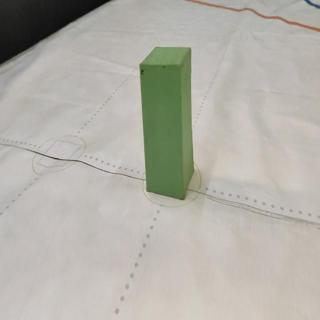greenbox: (140, 45, 194, 194)
